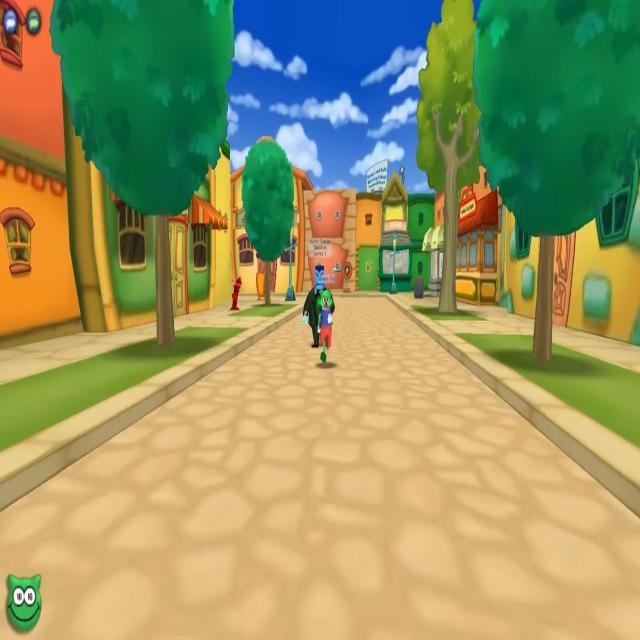shortchange: (297, 238, 341, 349)
